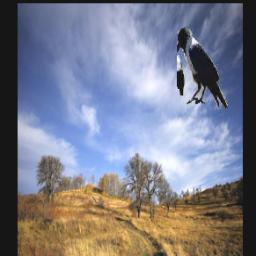Crow: (177, 28, 228, 112)
